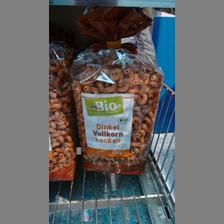Nudeln: (72, 44, 164, 174), (48, 41, 76, 178)
